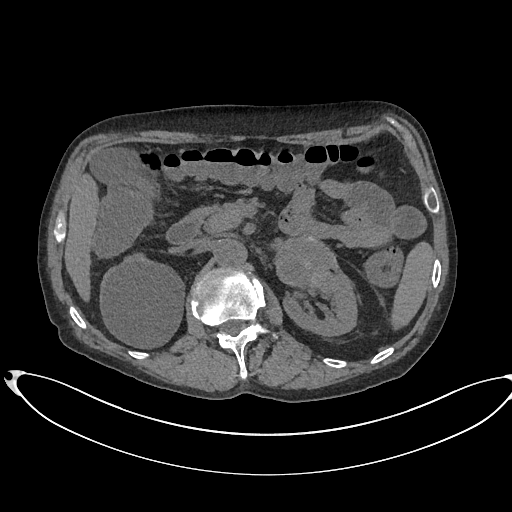Lesion: (271, 230, 339, 291)
